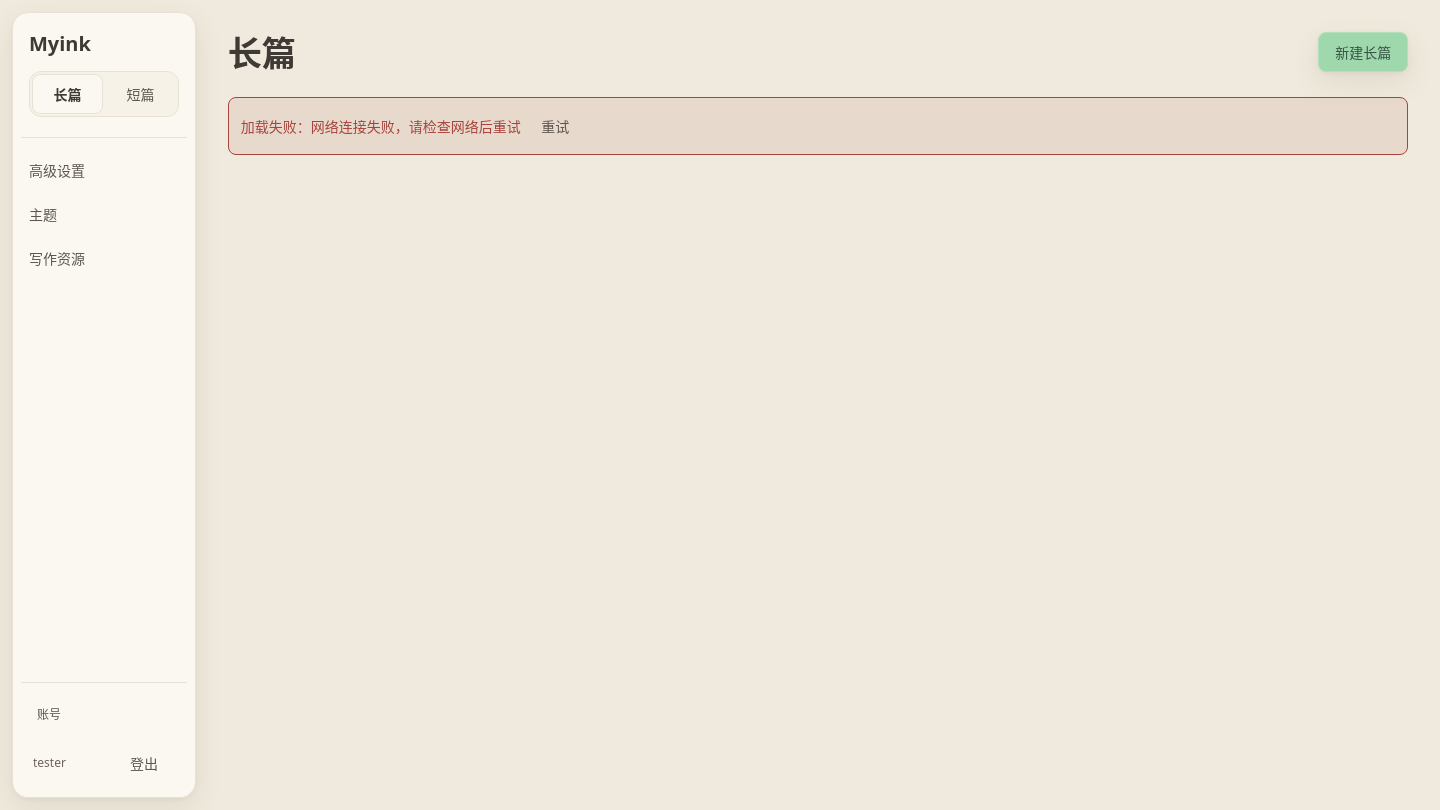
Test: shows load failure and retries successfully
The width and height of the screenshot is (1440, 810).
Expected: the message "加载失败：网络连接失败，请检查网络后重试 重试" is shown, [228, 97, 1408, 155]
Click the button "重试".
click(555, 126)  # box [524, 106, 586, 146]
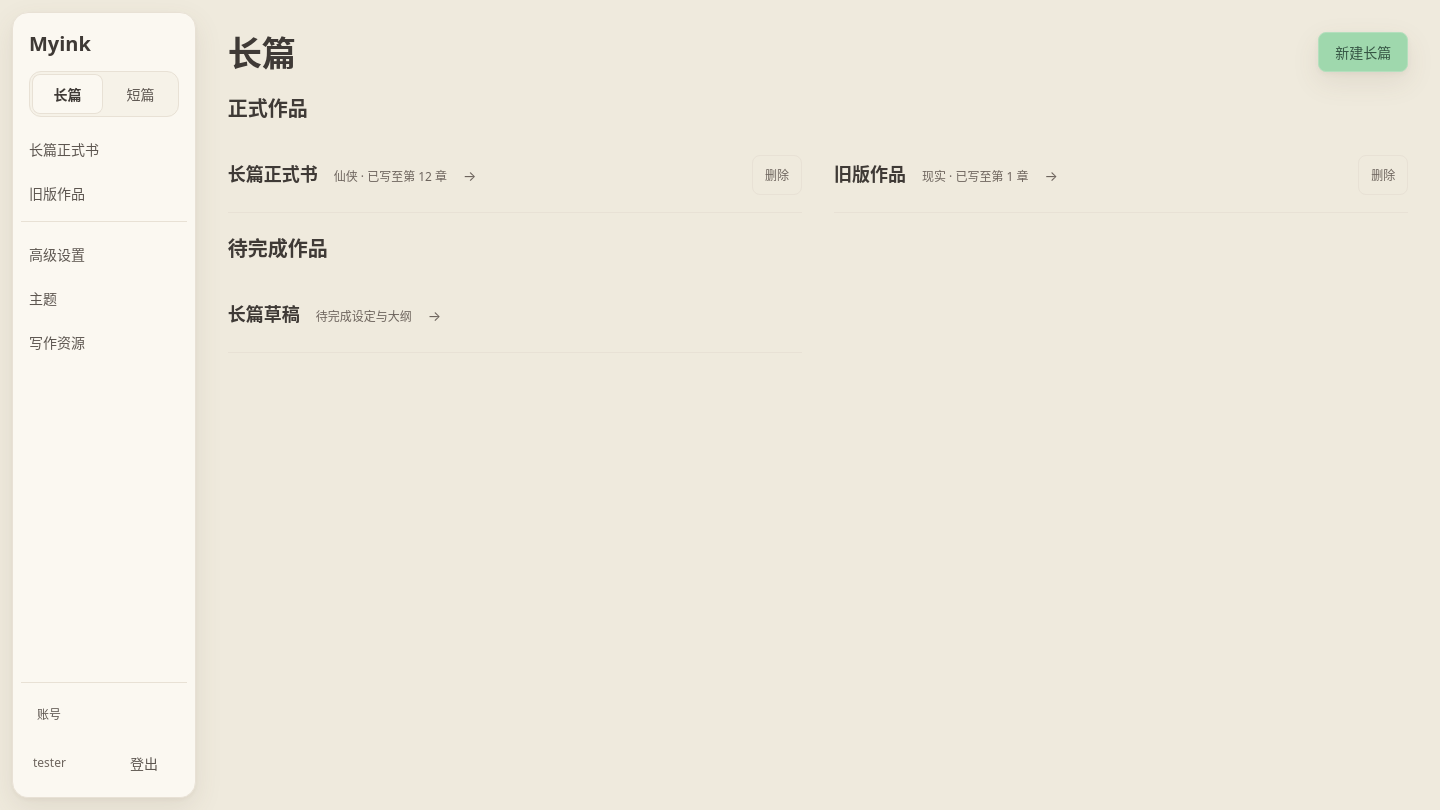
Expected: the text "长篇正式书" next to "仙侠 · 已写至第 12 章" is shown, [228, 162, 318, 186]
